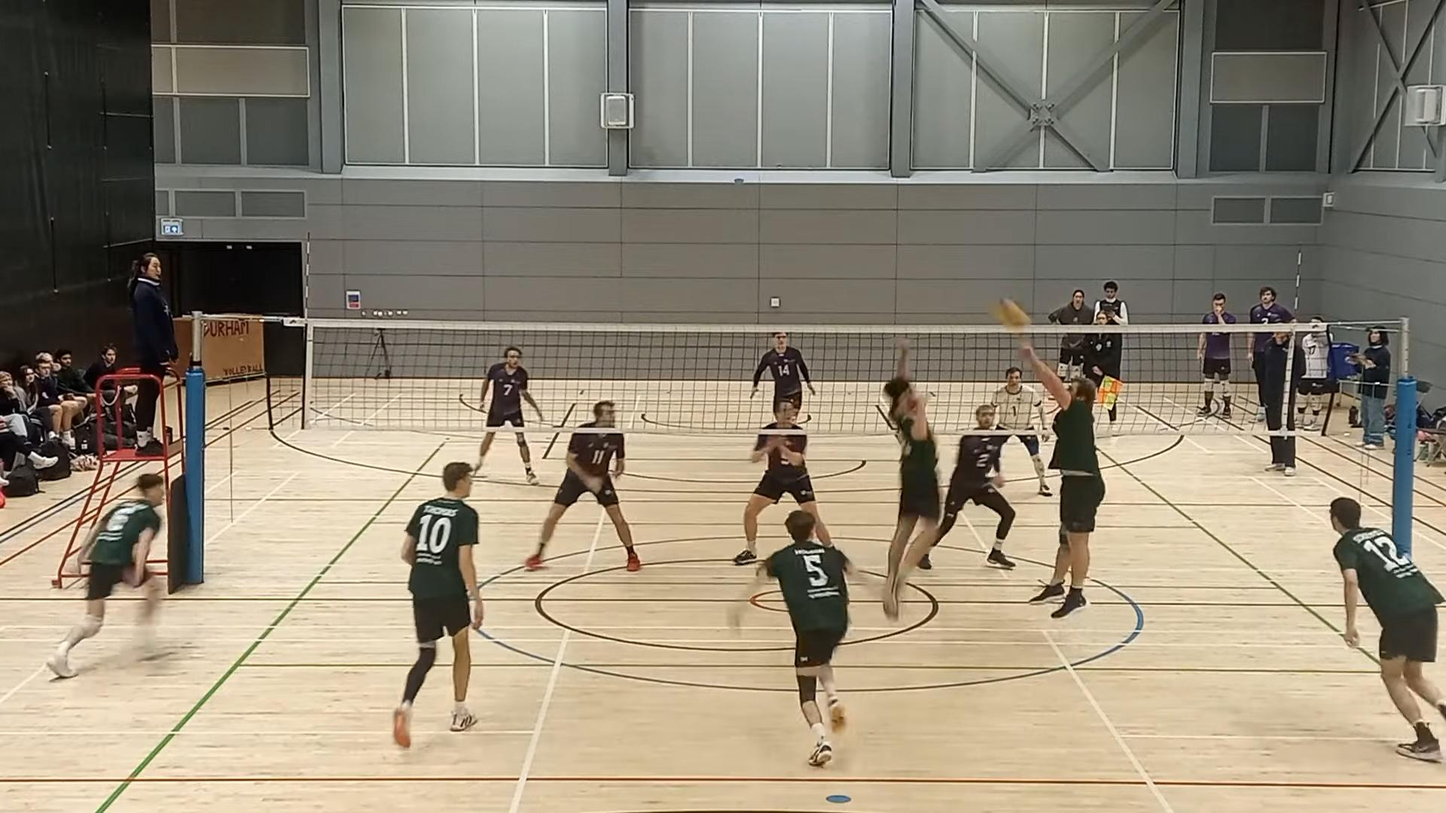Player: (1329, 497, 1445, 761), (745, 510, 856, 766), (393, 462, 483, 747), (47, 473, 165, 678), (733, 400, 831, 565), (525, 431, 640, 571), (883, 339, 939, 619), (935, 434, 1015, 568), (991, 367, 1051, 496), (481, 347, 545, 428), (750, 331, 816, 408)
Set: (1002, 336, 1103, 614)
